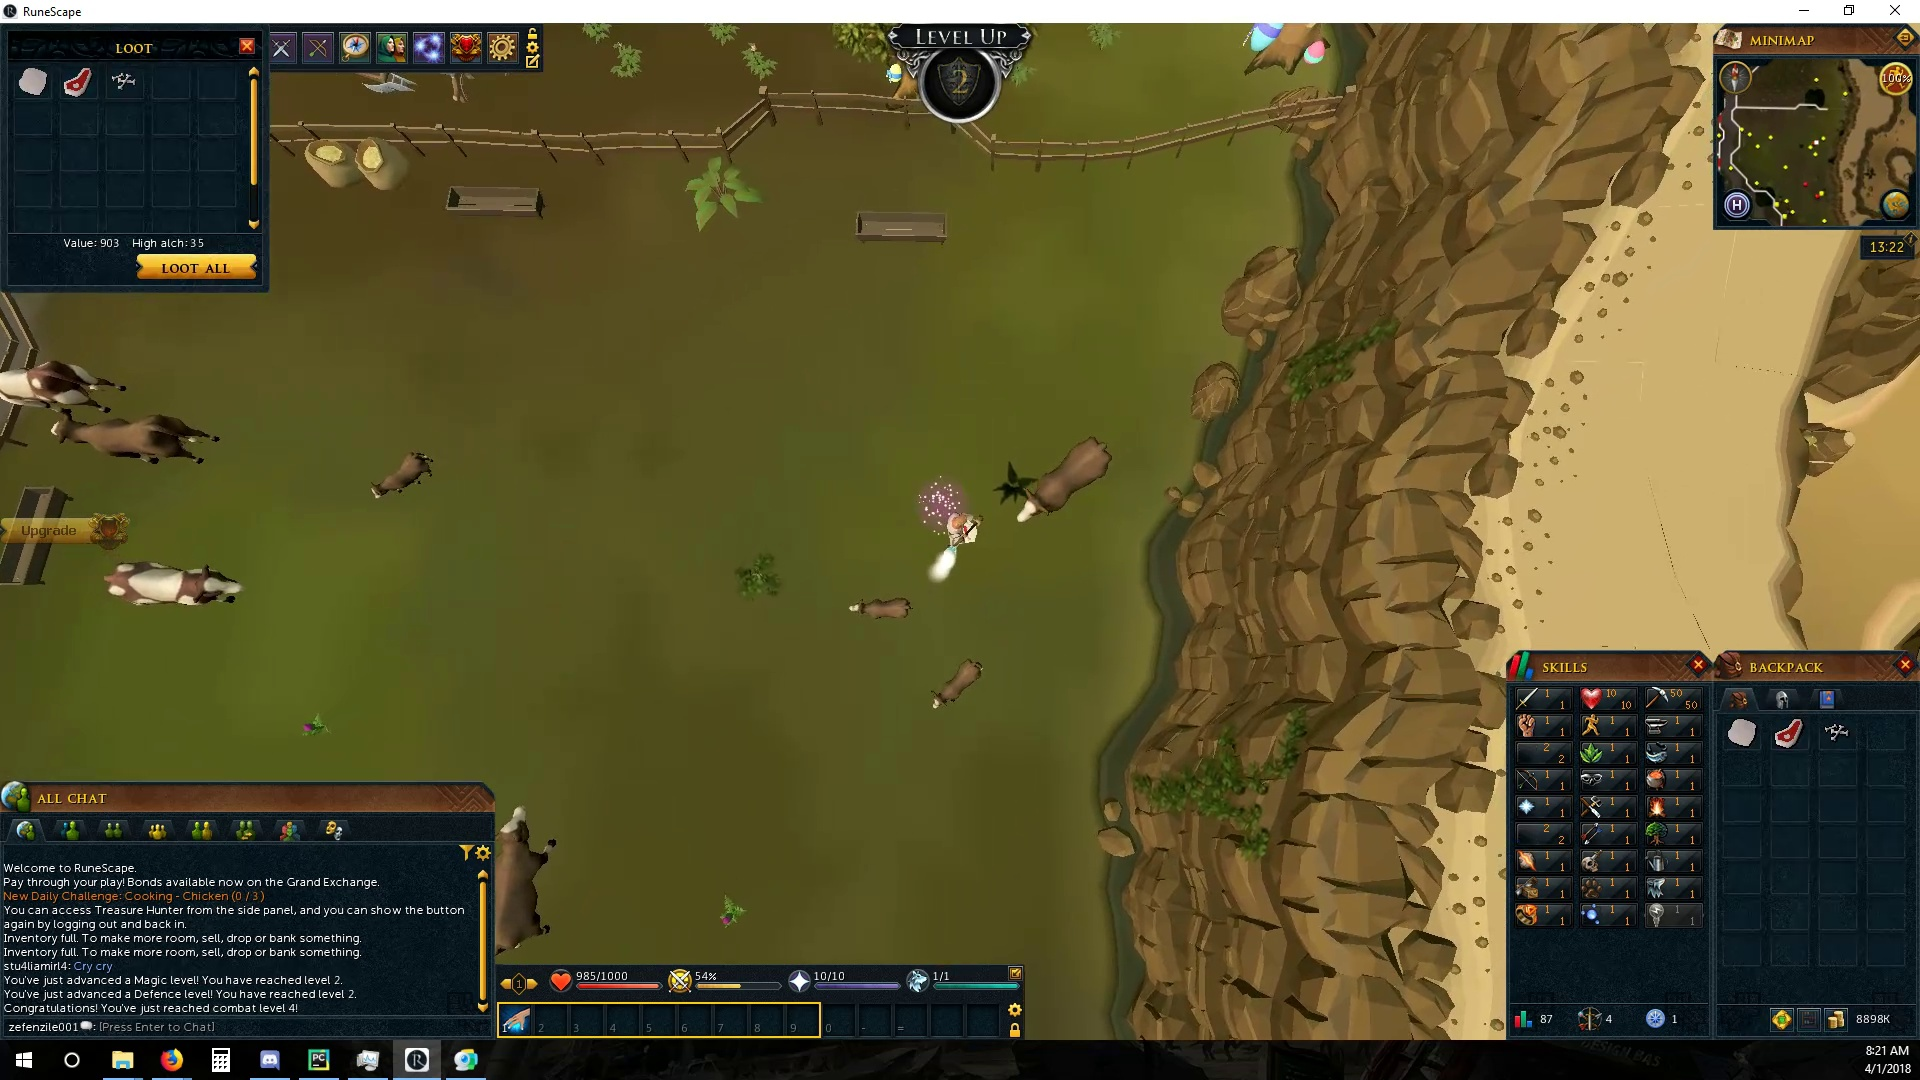calf: (364, 450, 436, 501), (927, 658, 985, 716), (845, 596, 915, 626)
cow: (1013, 431, 1116, 526), (45, 415, 222, 469), (495, 803, 555, 959), (1, 357, 128, 415), (105, 558, 243, 611)
